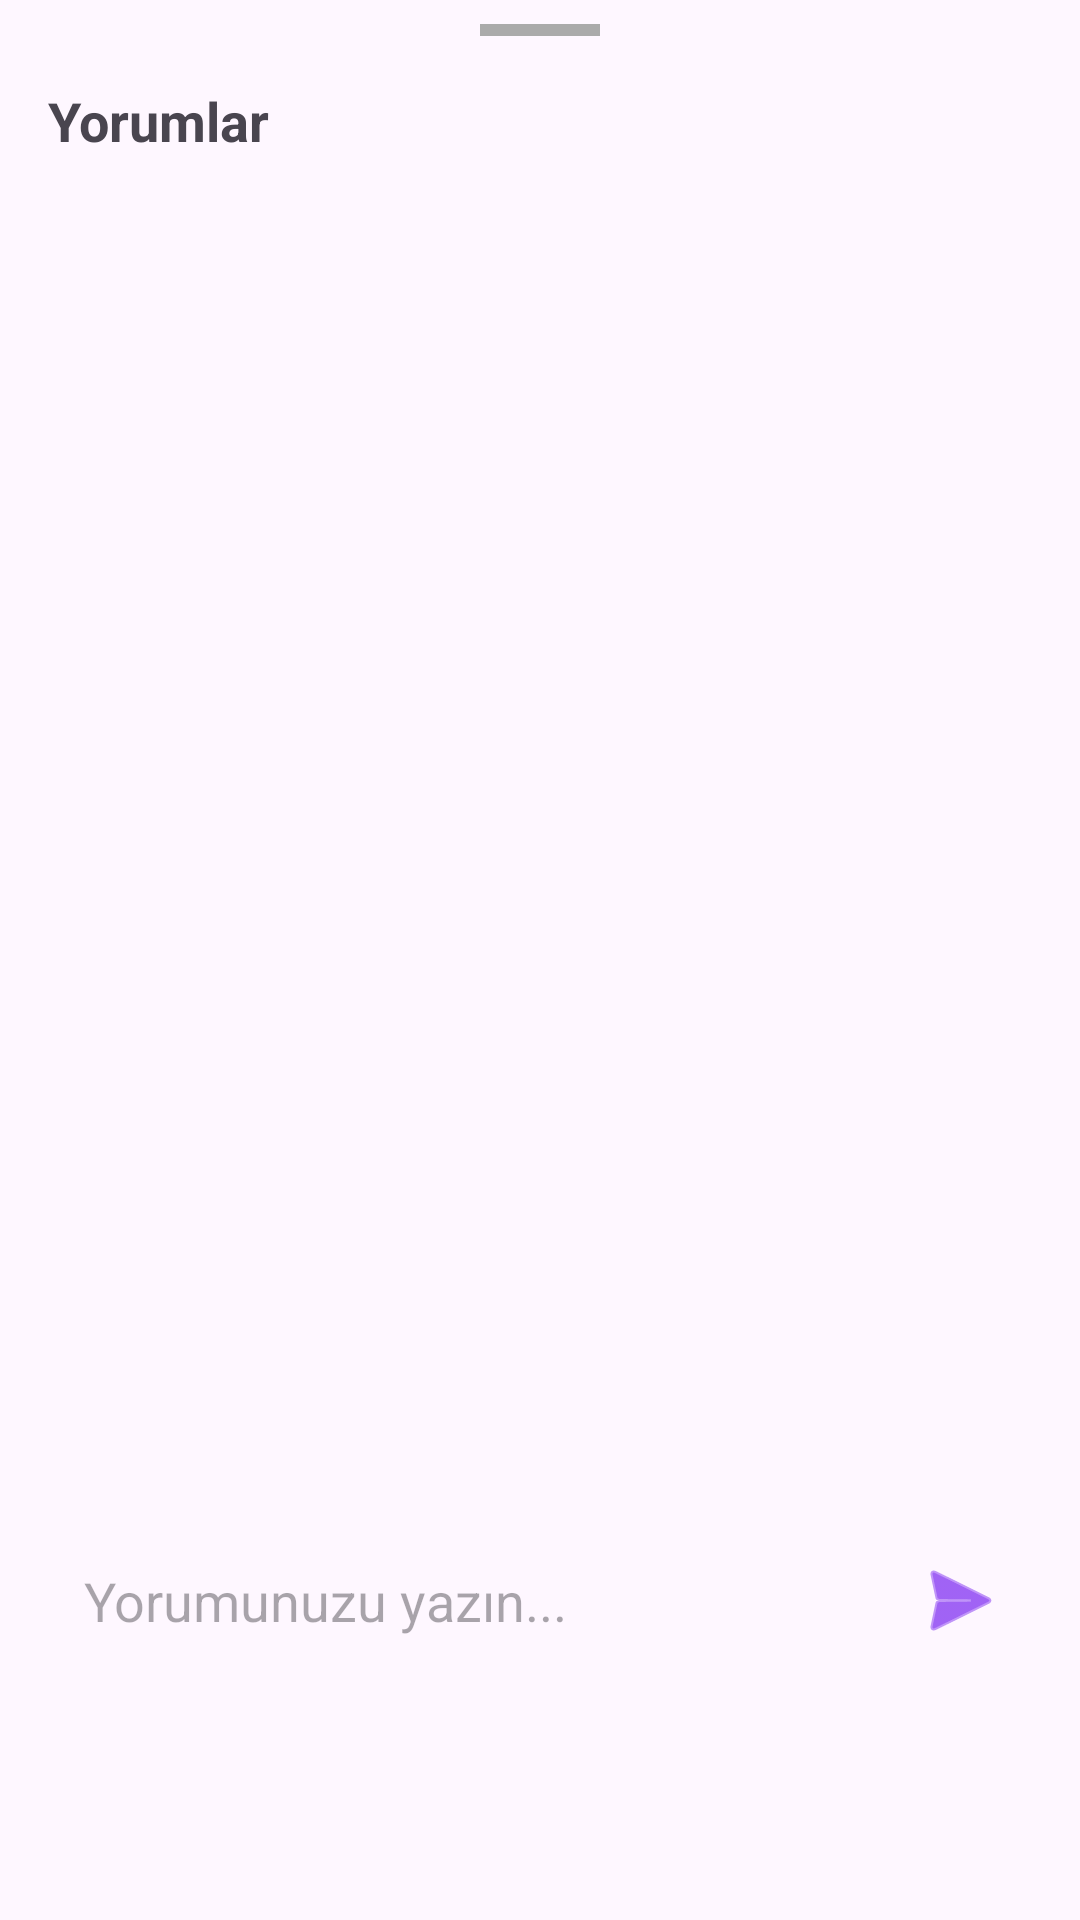

Icon click points for this 1080*1920 phone screenshot, format point (x, y):
Yorum Gönder: point (961, 1600)
